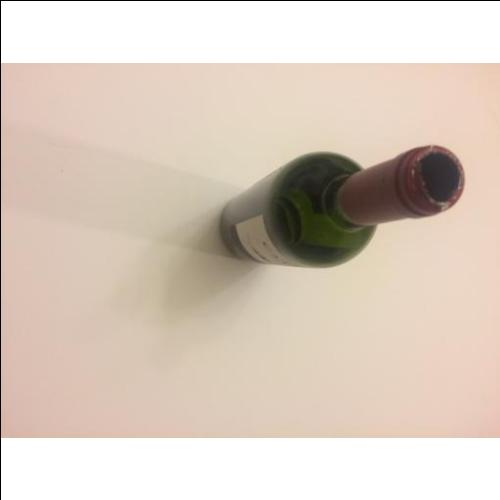glass: (219, 150, 466, 269)
